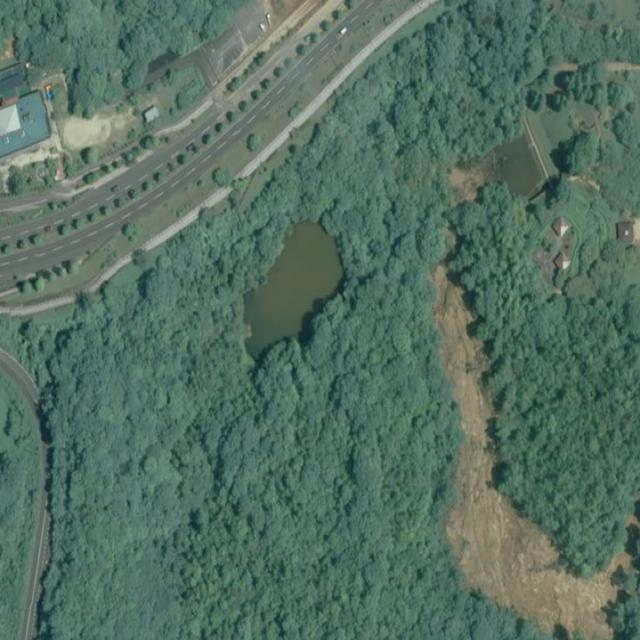landslide: (433, 265, 632, 640)
